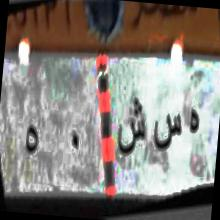0: (67, 116, 84, 162)
5: (18, 116, 44, 169)
haa: (186, 103, 204, 140)
seen: (148, 100, 186, 170)
sheen: (113, 90, 150, 168)
